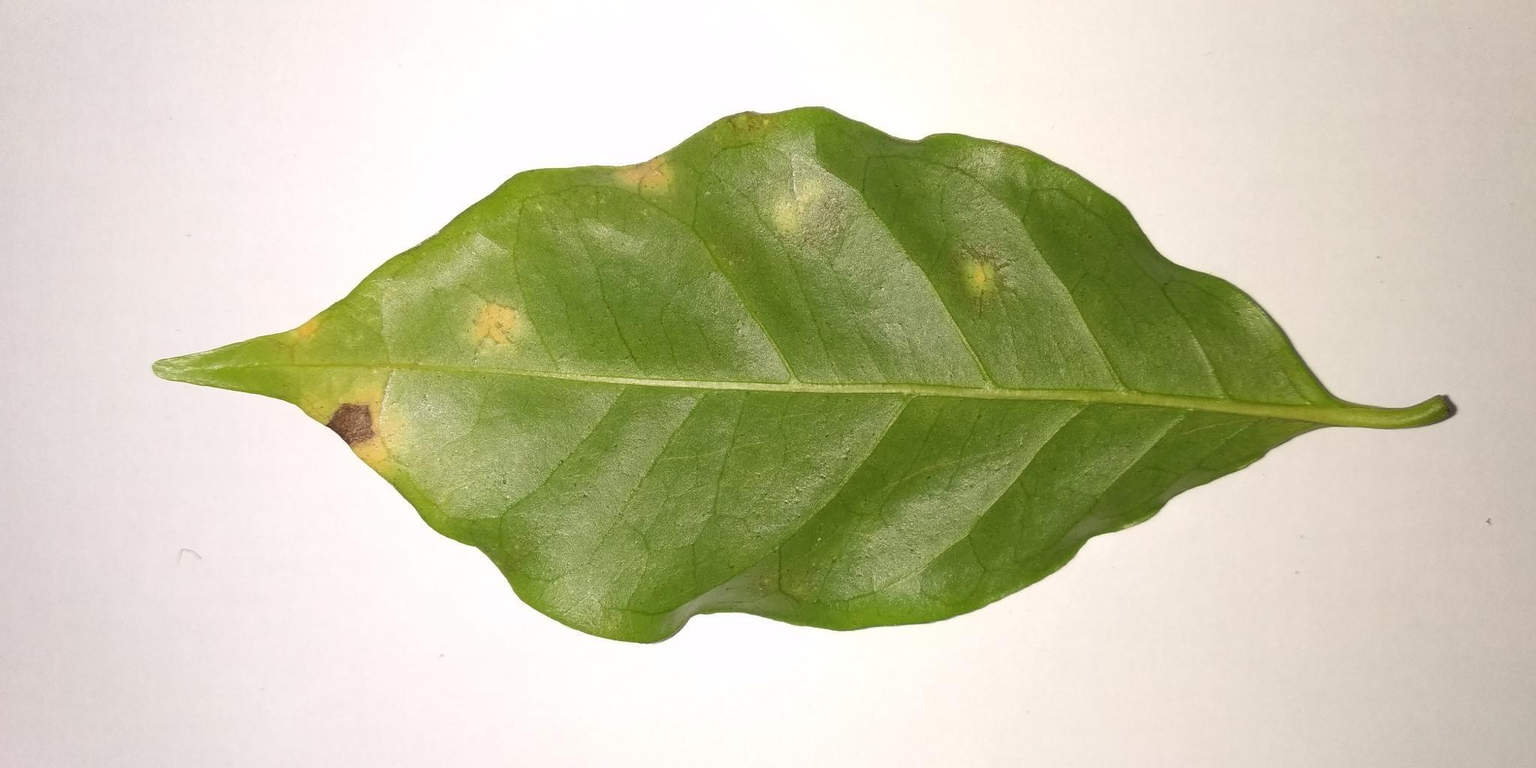Cercospora: (304, 377, 404, 471)
